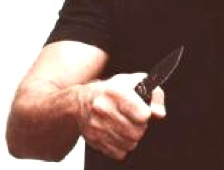knife: (102, 39, 187, 138)
